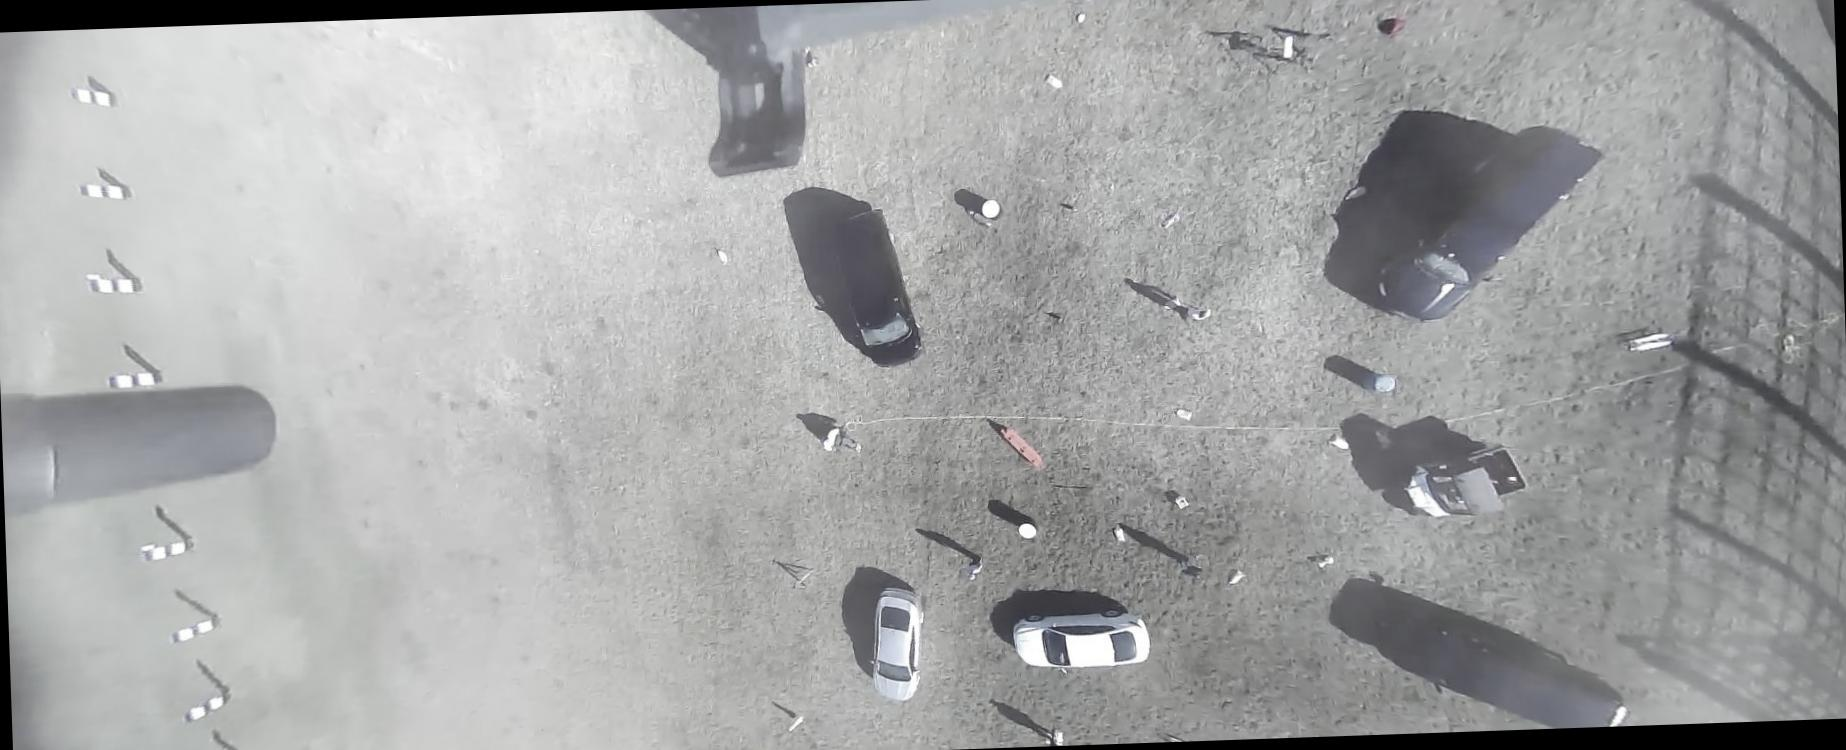vehicle: (1361, 124, 1611, 325), (1386, 599, 1631, 734), (831, 206, 927, 369), (1396, 444, 1530, 520), (1011, 605, 1153, 677), (864, 584, 929, 702)
